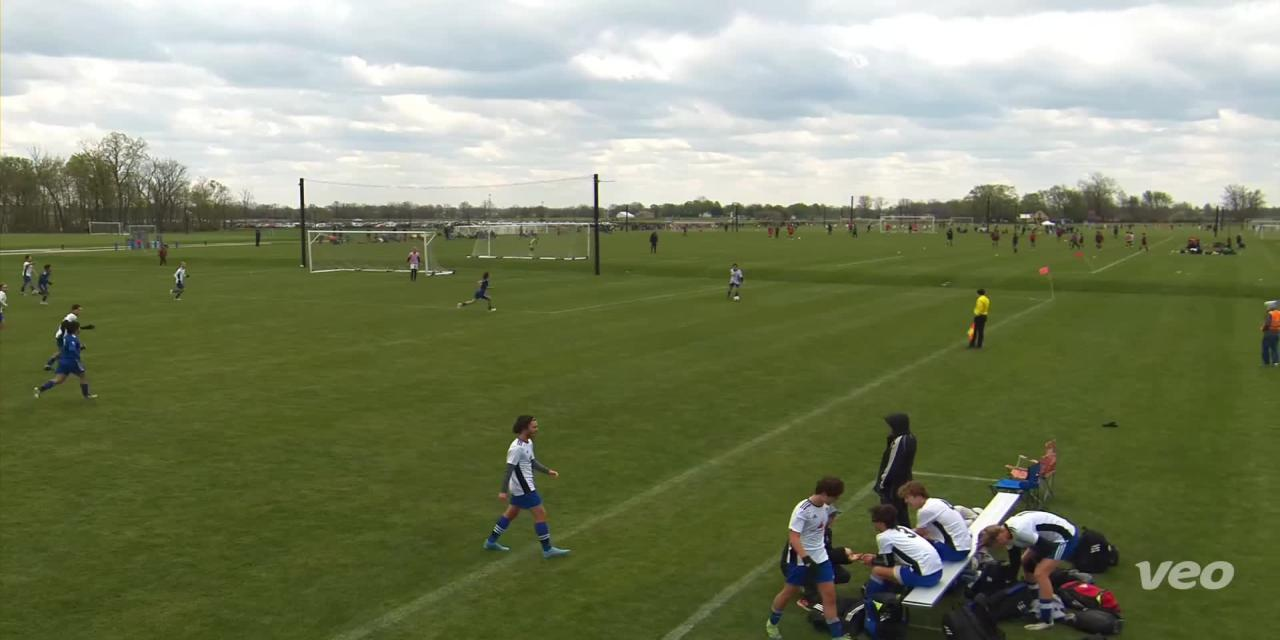goal: (295, 218, 466, 282)
sports ball: (732, 292, 742, 307)
